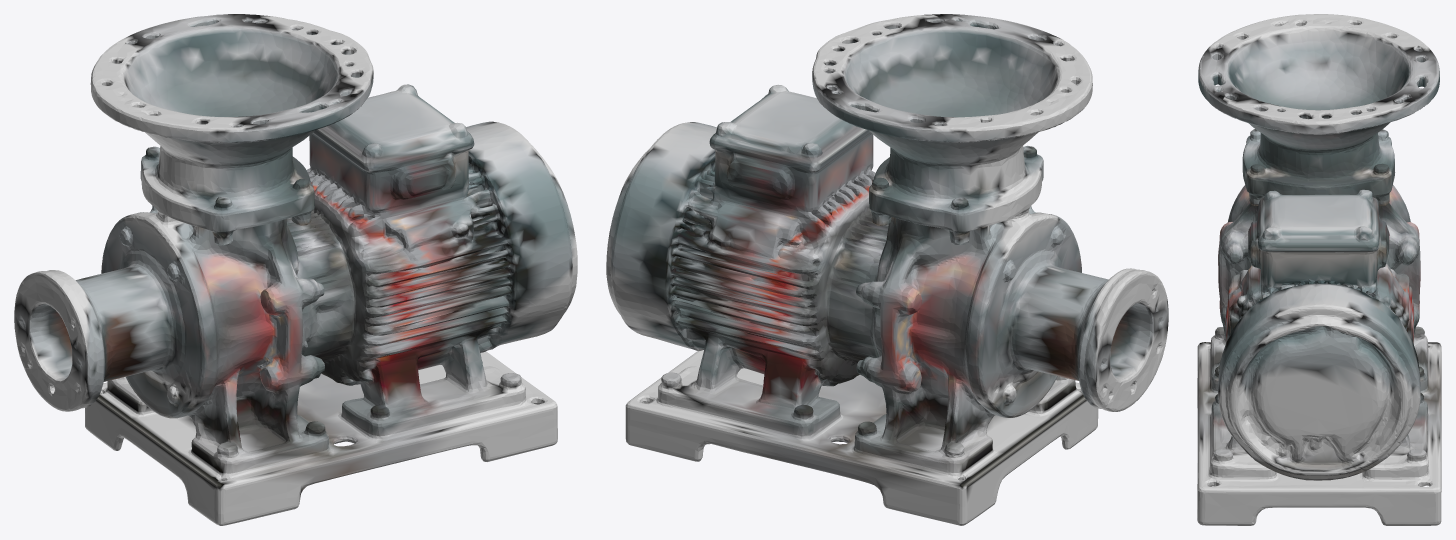
The model's file is machine.glb.
3 views of the same model, side by side, from view 1: azimuth 30°, elevation 25°; view 2: azimuth 150°, elevation 25°; view 3: azimuth 270°, elevation 25° (orthographic). The views are drawn at different scales.
Visible parts, largest first — view 1: tmpza_m1ecn.ply; view 2: tmpza_m1ecn.ply; view 3: tmpza_m1ecn.ply.
Part boxes in pixels (<box>): tmpza_m1ecn.ply: <box>14,14,577,525</box>; tmpza_m1ecn.ply: <box>606,14,1168,525</box>; tmpza_m1ecn.ply: <box>1197,14,1441,525</box>.
Bounding box in the file's own units: 1.99 × 1.54 × 0.9853.
